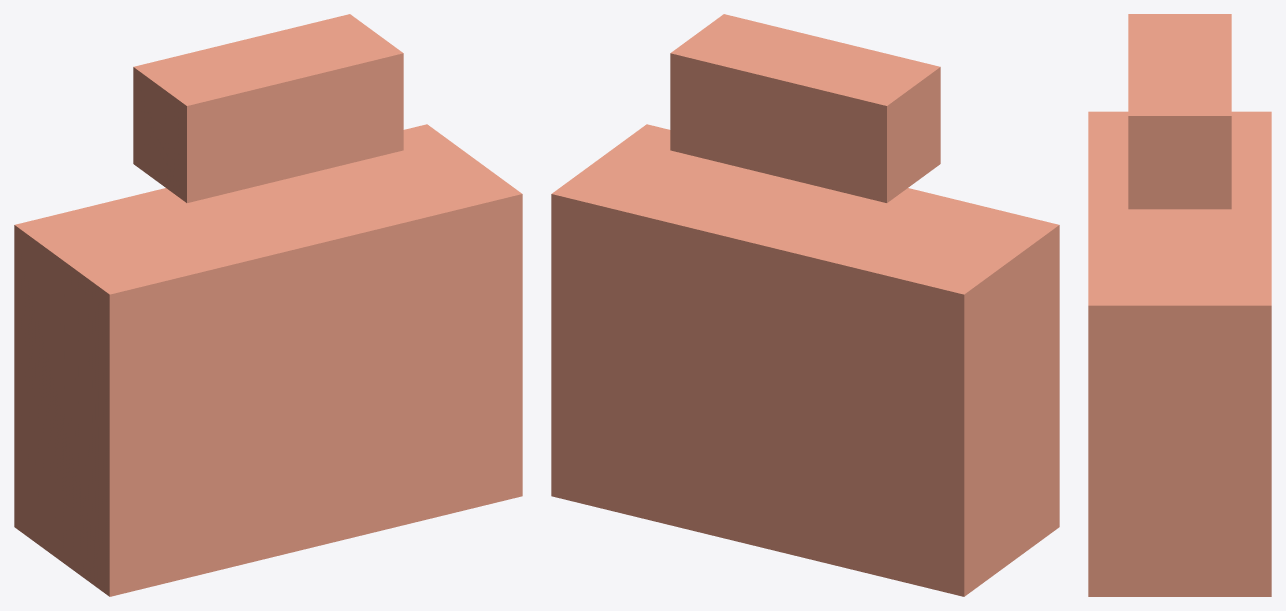
File: node-research.glb
The picture shows the model from 3 angles, left to right: view 1: azimuth 30°, elevation 25°; view 2: azimuth 150°, elevation 25°; view 3: azimuth 270°, elevation 25°; orthographic projection. The views are drawn at different scales.
Parts seen in each view (by area): view 1: Research, Research_top; view 2: Research, Research_top; view 3: Research, Research_top.
Boxes of the visible parts, box(x1,y1,x2,y2) form: Research: box(14, 124, 522, 596); Research_top: box(133, 14, 403, 202); Research: box(551, 124, 1059, 596); Research_top: box(670, 14, 940, 202); Research: box(1088, 111, 1271, 596); Research_top: box(1128, 14, 1231, 209).
Size of the model in its own units: 1.2 by 1.25 by 0.48.
